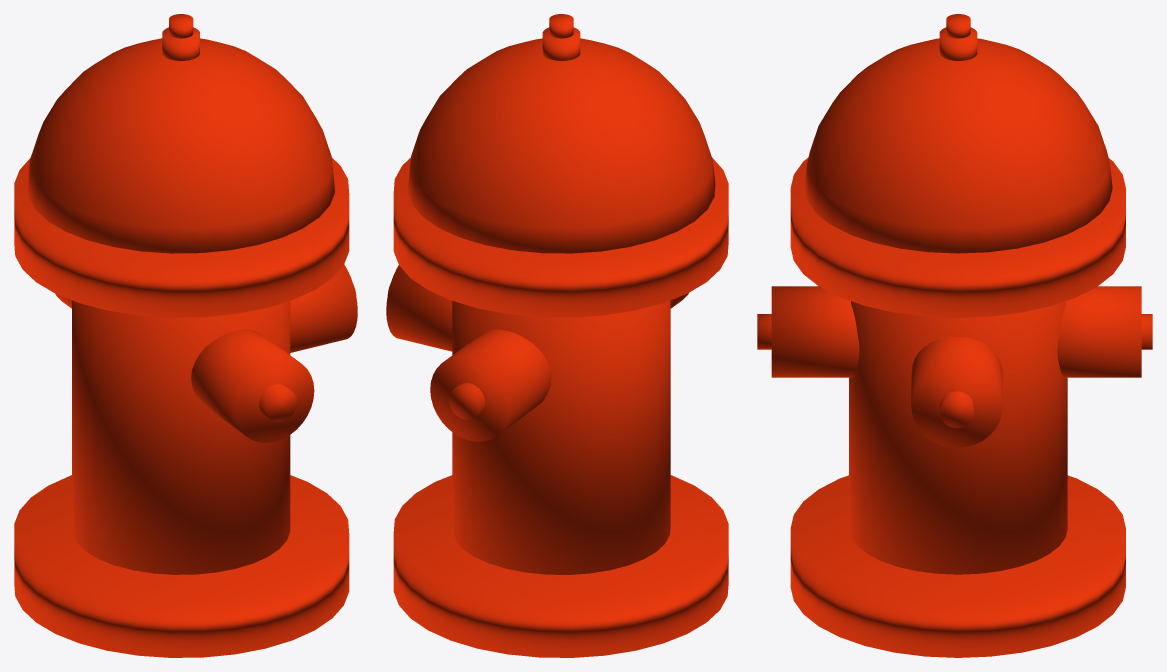
Rendered from FIREHYDRANT.fbx.
3 renders of one model, left to right at view 1: azimuth 30°, elevation 25°; view 2: azimuth 150°, elevation 25°; view 3: azimuth 270°, elevation 25°, orthographic.
Parts seen in each view (by area): view 1: Sphere, Cylinder, Cylinder.001, Cylinder.002, Cylinder.005, Cylinder.007, Cylinder.008, Cylinder.003, Cylinder.004; view 2: Sphere, Cylinder, Cylinder.001, Cylinder.002, Cylinder.006, Cylinder.007, Cylinder.009, Cylinder.003, Cylinder.004; view 3: Sphere, Cylinder, Cylinder.001, Cylinder.002, Cylinder.007, Cylinder.005, Cylinder.006, Cylinder.010, Cylinder.003, Cylinder.004.
Part boxes in pixels (box(x1,y1,x2,y2)): Sphere: box(27, 38, 334, 253); Cylinder: box(72, 300, 290, 574); Cylinder.001: box(14, 475, 349, 657); Cylinder.002: box(14, 157, 349, 317); Cylinder.005: box(191, 329, 314, 442); Cylinder.007: box(290, 264, 357, 352); Cylinder.008: box(259, 384, 297, 422); Cylinder.003: box(162, 27, 199, 60); Cylinder.004: box(169, 14, 193, 38); Sphere: box(407, 38, 715, 253); Cylinder: box(452, 300, 670, 574); Cylinder.001: box(393, 475, 728, 657); Cylinder.002: box(393, 157, 728, 317); Cylinder.006: box(430, 329, 551, 441); Cylinder.007: box(386, 265, 452, 351); Cylinder.009: box(449, 382, 485, 419); Cylinder.003: box(542, 27, 580, 60); Cylinder.004: box(549, 14, 573, 38); Sphere: box(804, 38, 1112, 253); Cylinder: box(849, 301, 1067, 574); Cylinder.001: box(790, 475, 1125, 657); Cylinder.002: box(790, 158, 1125, 317); Cylinder.007: box(911, 336, 1002, 447); Cylinder.005: box(771, 286, 859, 377); Cylinder.006: box(1057, 286, 1141, 377); Cylinder.010: box(940, 391, 973, 428); Cylinder.003: box(939, 27, 977, 60); Cylinder.004: box(946, 14, 970, 38).
Bounding box in the file's own units: 328 × 573 × 362.
